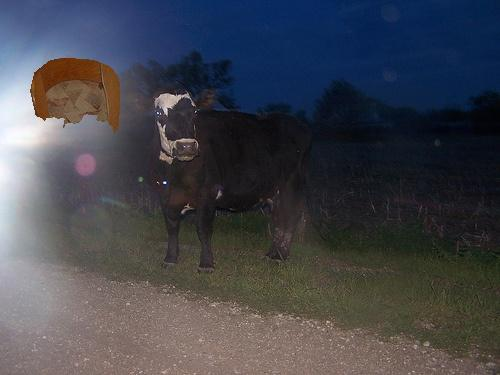tampered: (31, 59, 120, 133)
